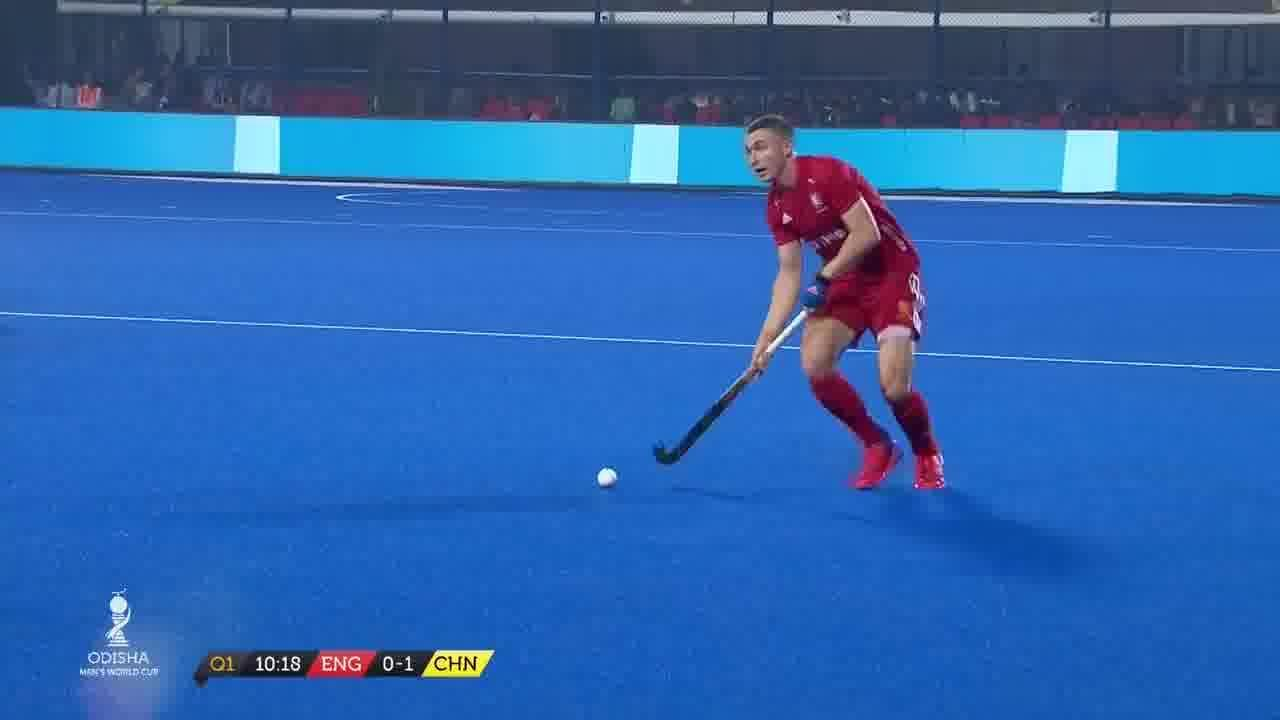ball: (593, 461, 626, 499)
